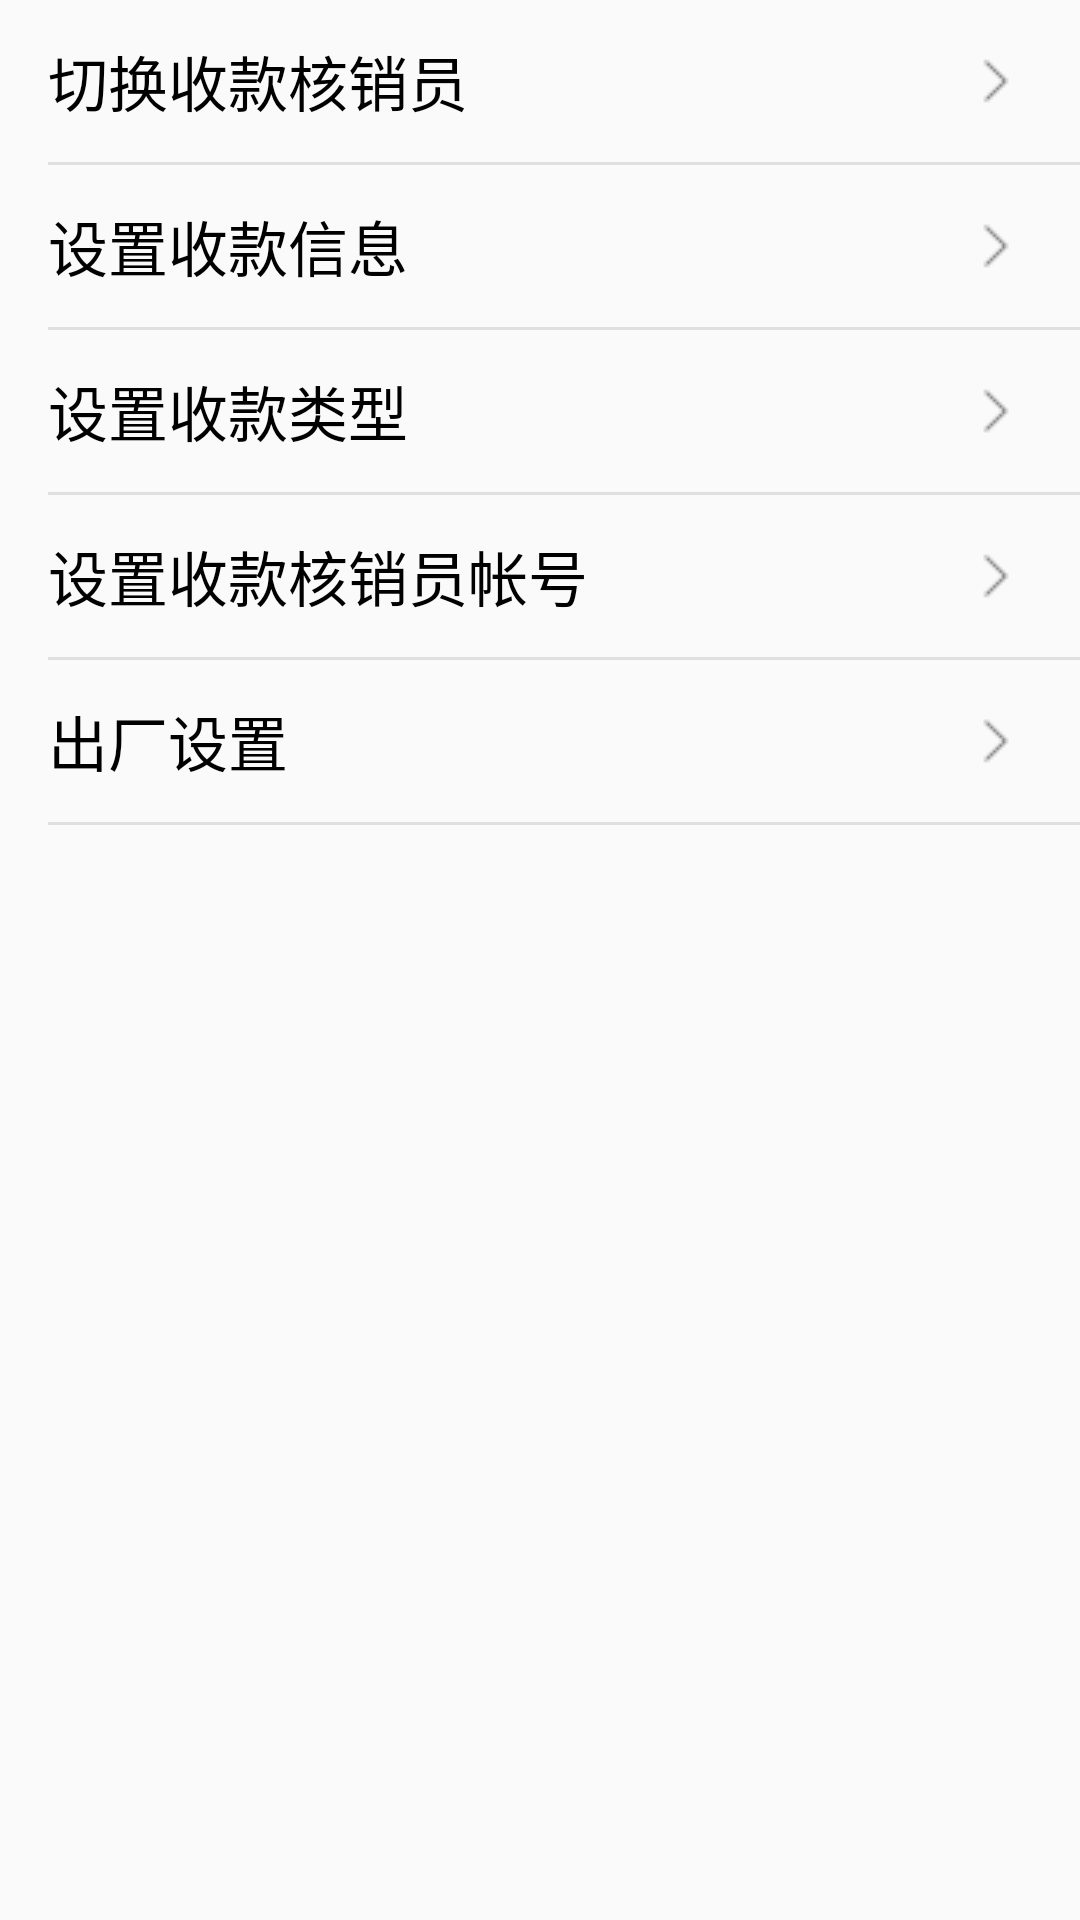

Icons on this 1080px x 1920px Android screen, each with its box as [x1, y1, x2, y2]:
chat content iocn go: [984, 60, 1008, 102], [984, 225, 1008, 267], [984, 390, 1008, 432], [984, 555, 1008, 597], [984, 720, 1008, 762]
